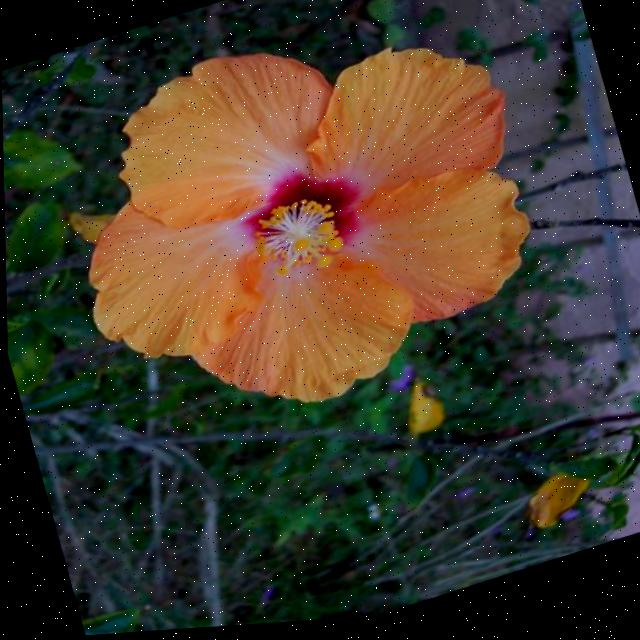hibiscus: (2, 0, 600, 496)
